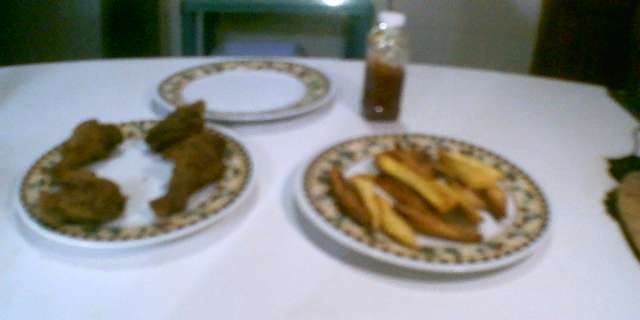chicken: (152, 134, 226, 220), (41, 167, 130, 227), (46, 117, 126, 176), (145, 100, 209, 149)
empty_plate: (148, 54, 335, 123)
ketchup_bottle: (354, 5, 413, 123)
potatoe_fries: (331, 145, 511, 246)
